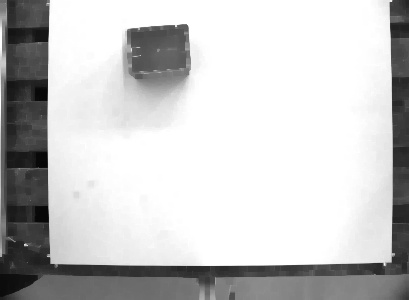klts: (125, 20, 196, 81)
